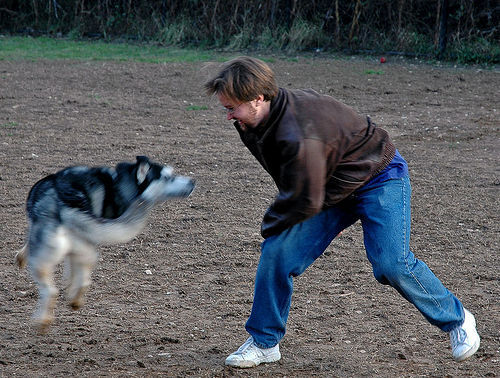dog: (15, 157, 194, 331)
